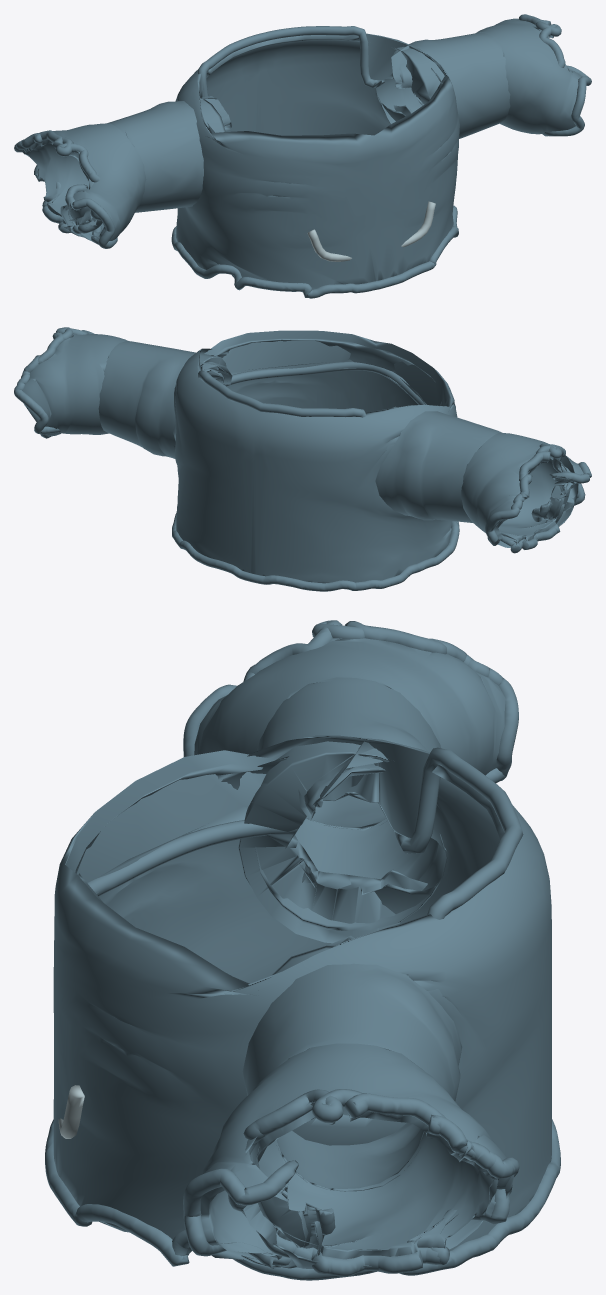
File: 2HT-feminino.glb
3 renders of one model, top to bottom at view 1: azimuth 30°, elevation 25°; view 2: azimuth 150°, elevation 25°; view 3: azimuth 270°, elevation 25°, orthographic. The views are drawn at different scales.
Visible parts, largest first — view 1: fitted-shell, bound-edge (×6), pocket-seam; view 2: fitted-shell, bound-edge (×5); view 3: fitted-shell, bound-edge (×6), pocket-seam.
Part boxes in pixels (x1=…): fitted-shell: x1=21, y1=18, x2=580, y2=292; bound-edge (×6): x1=14, y1=14, x2=591, y2=298; pocket-seam: x1=307, y1=201, x2=435, y2=261; fitted-shell: x1=22, y1=330, x2=583, y2=583; bound-edge (×5): x1=14, y1=327, x2=591, y2=591; fitted-shell: x1=53, y1=638, x2=551, y2=1268; bound-edge (×6): x1=45, y1=620, x2=560, y2=1280; pocket-seam: x1=58, y1=1085, x2=84, y2=1138.
Bounding box in the file's own units: 0.0858 × 0.0273 × 0.0368.
